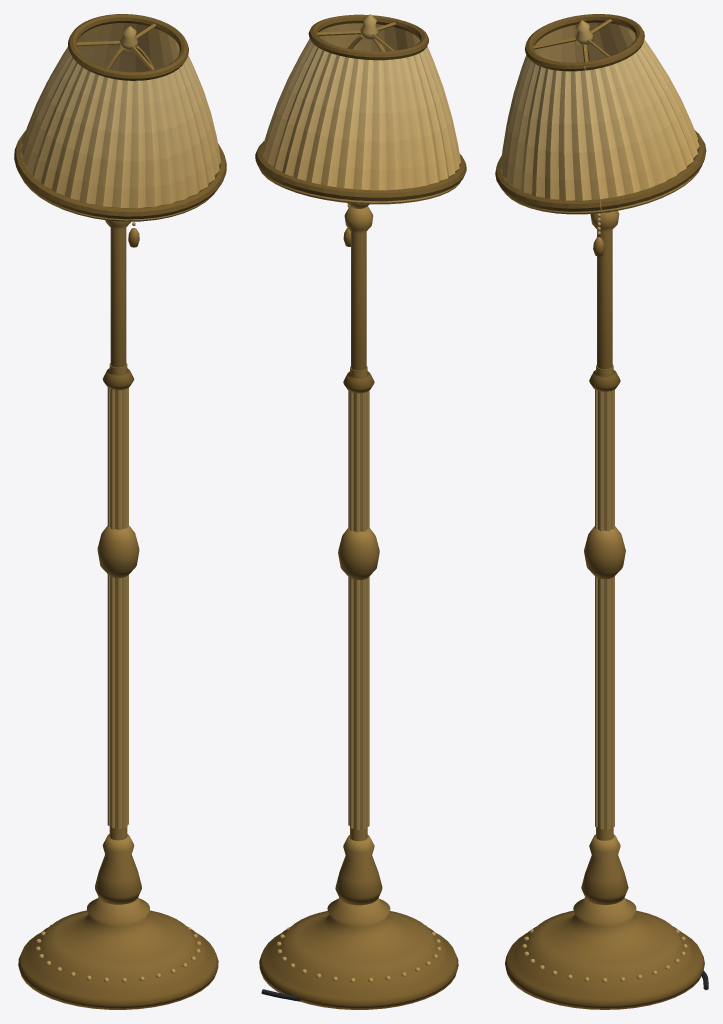
File: library-floor-lamp.glb
The picture shows the model from 3 angles, left to right: view 1: azimuth 30°, elevation 25°; view 2: azimuth 150°, elevation 25°; view 3: azimuth 270°, elevation 25°; orthographic projection.
Visible parts, largest first — view 1: library_floor_lamp; view 2: library_floor_lamp; view 3: library_floor_lamp.
Part boxes in pixels (x1=…): library_floor_lamp: x1=14, y1=14, x2=226, y2=1009; library_floor_lamp: x1=255, y1=14, x2=466, y2=1009; library_floor_lamp: x1=495, y1=14, x2=708, y2=1009.
Size of the model in its own units: 0.3233 by 1.59 by 0.3245.
